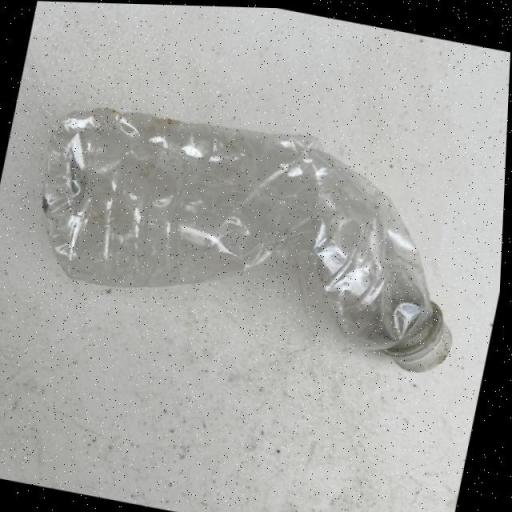plastic: (17, 86, 490, 376)
